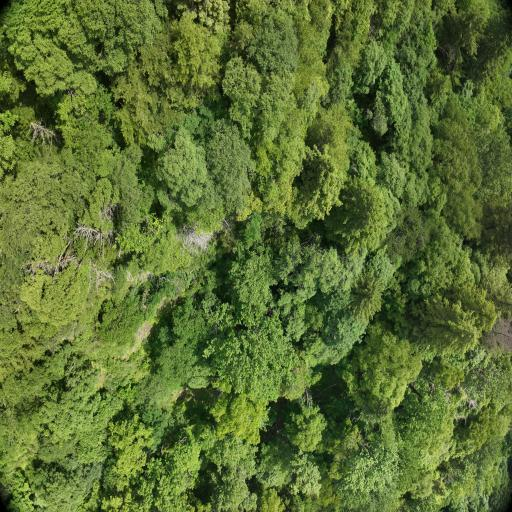dead-tree: (59, 223, 118, 258), (25, 117, 55, 153)
